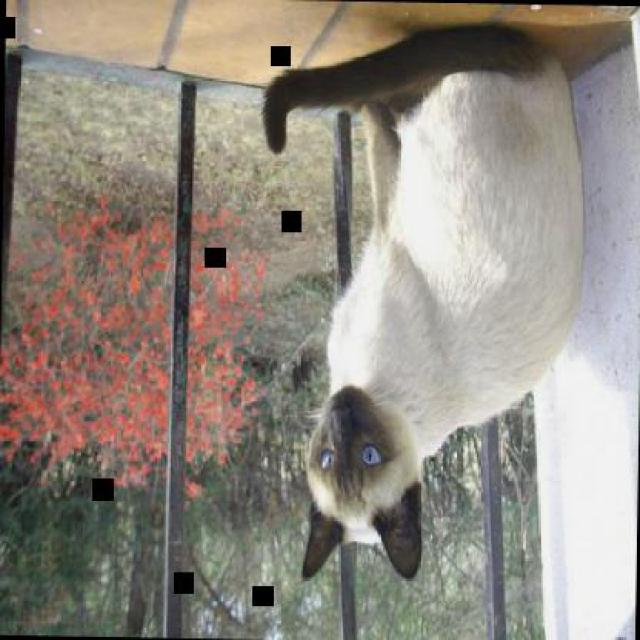cat: (253, 20, 589, 583)
